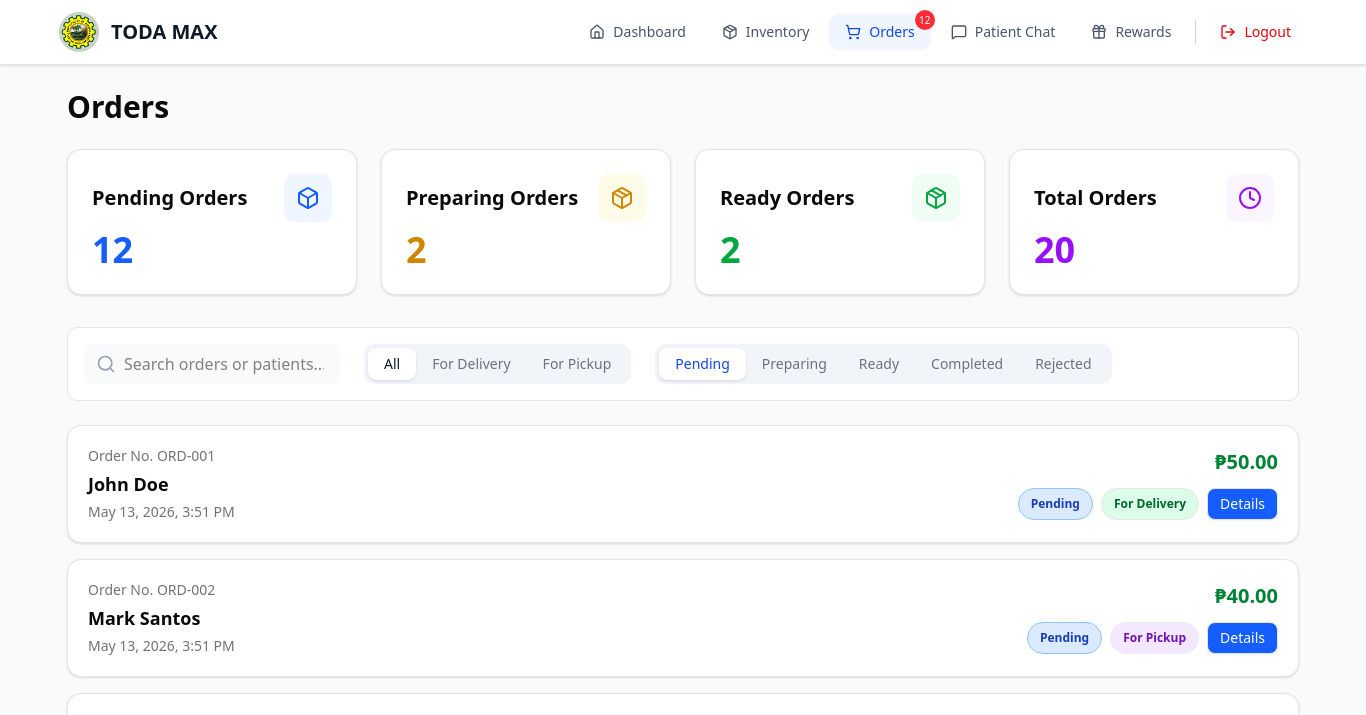
Test case: Ordering Page › should filter orders by status tabs and show correct orders
Click the button "Preparing": (795, 364) [746,348,843,380]
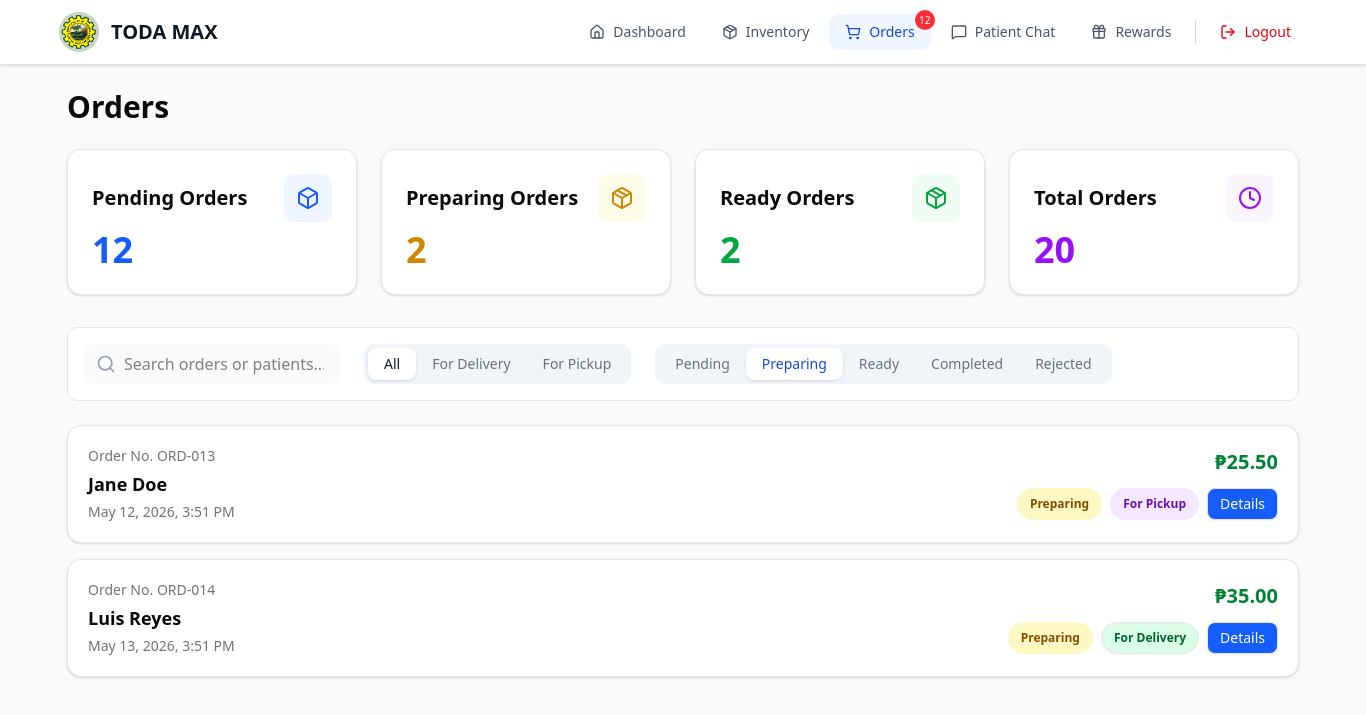
Check: the text "Jane Doe" is shown, box [88,472,167,496]
Click the button "Ready": (879, 364) [843,348,915,380]
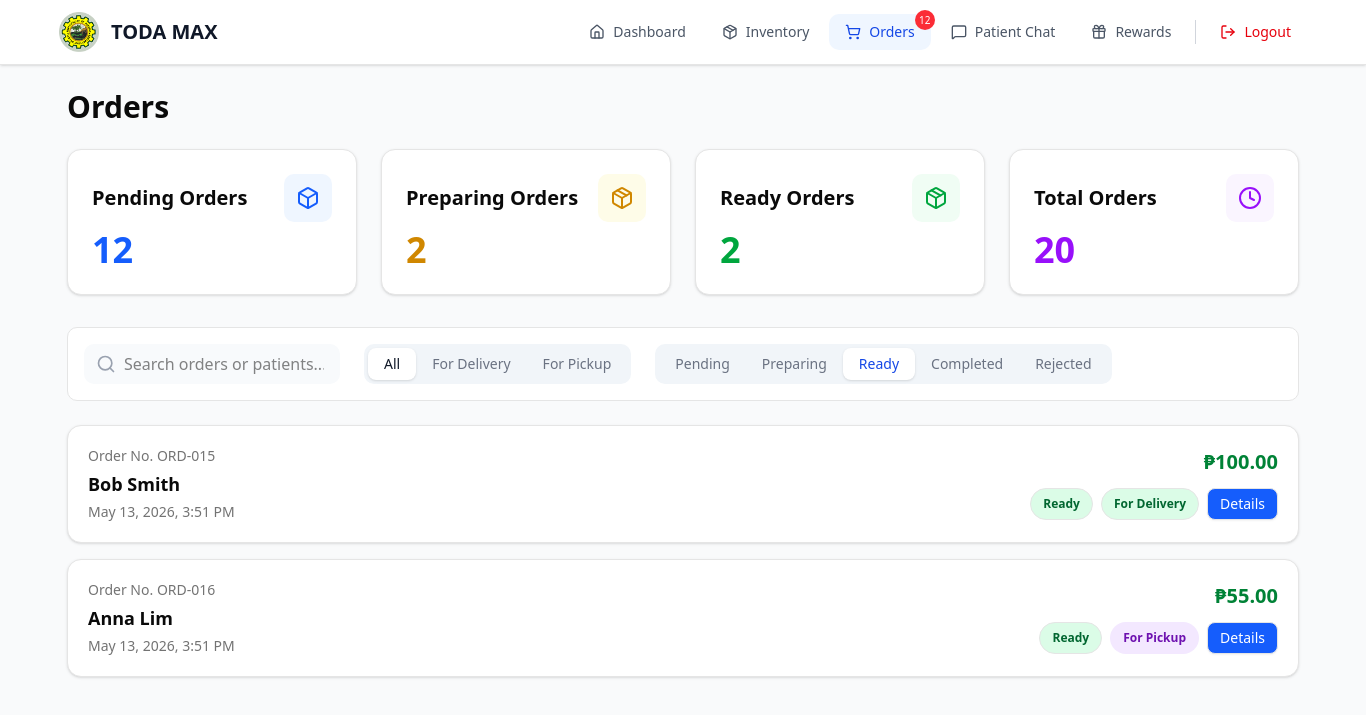
Check: the text "Bob Smith" is shown, box [88,472,180,496]
Click the button "Completed": (967, 364) [915,348,1019,380]
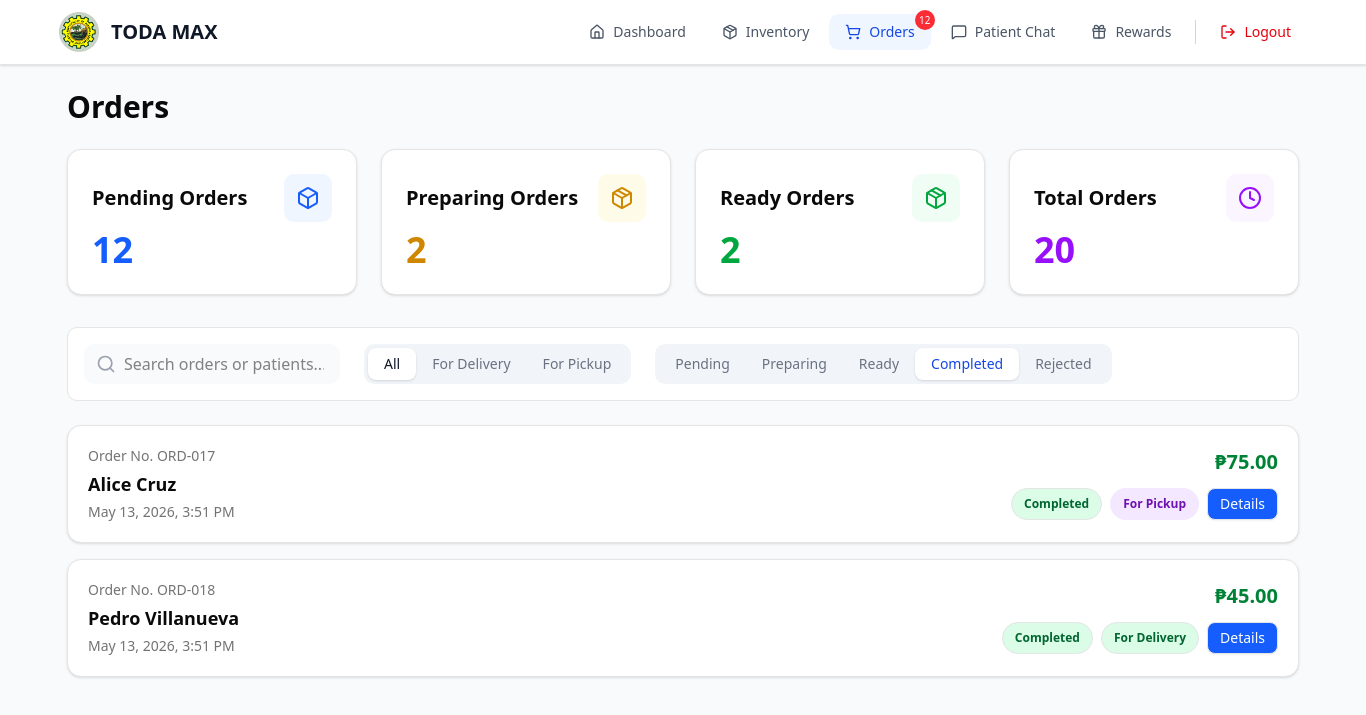
Check: the text "Alice Cruz" is shown, box [88,472,176,496]
Click the button "Rejected": (1063, 364) [1019,348,1107,380]
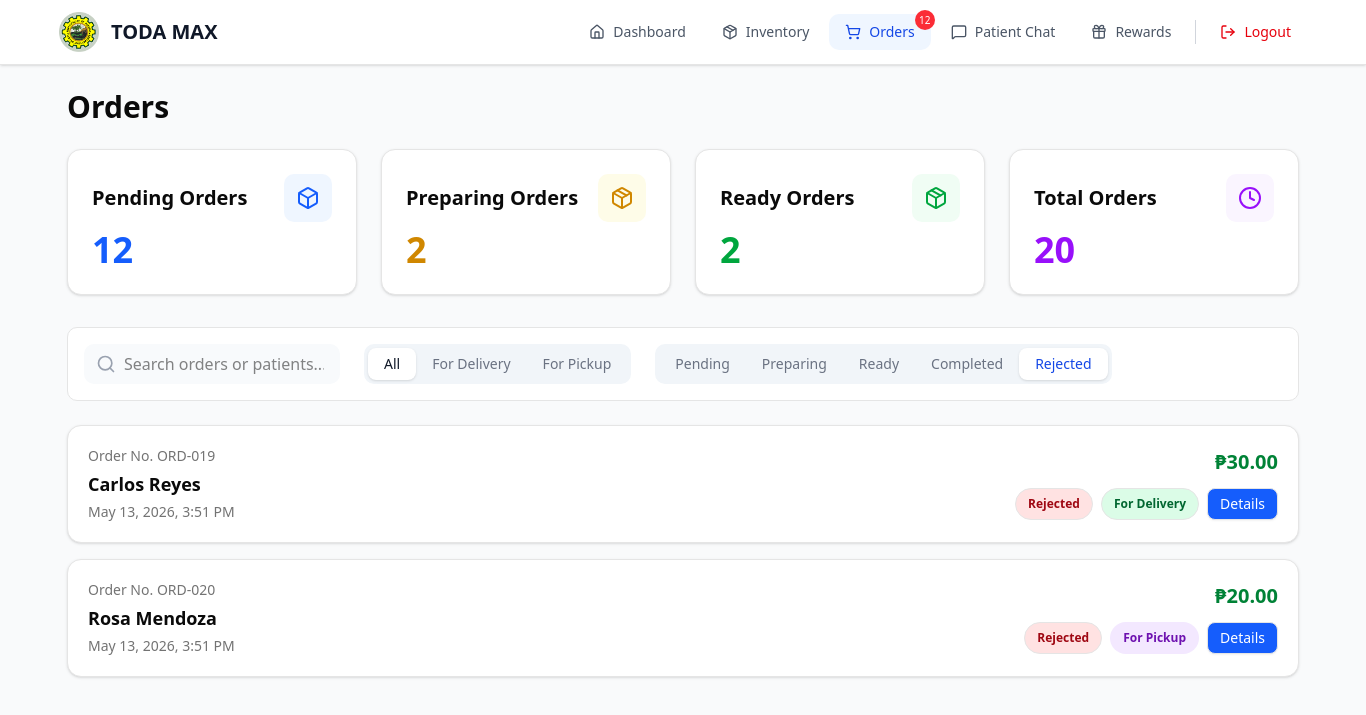
Check: the text "Carlos Reyes" is shown, box [88,472,201,496]
Click the button "Pending": (703, 364) [659,348,746,380]
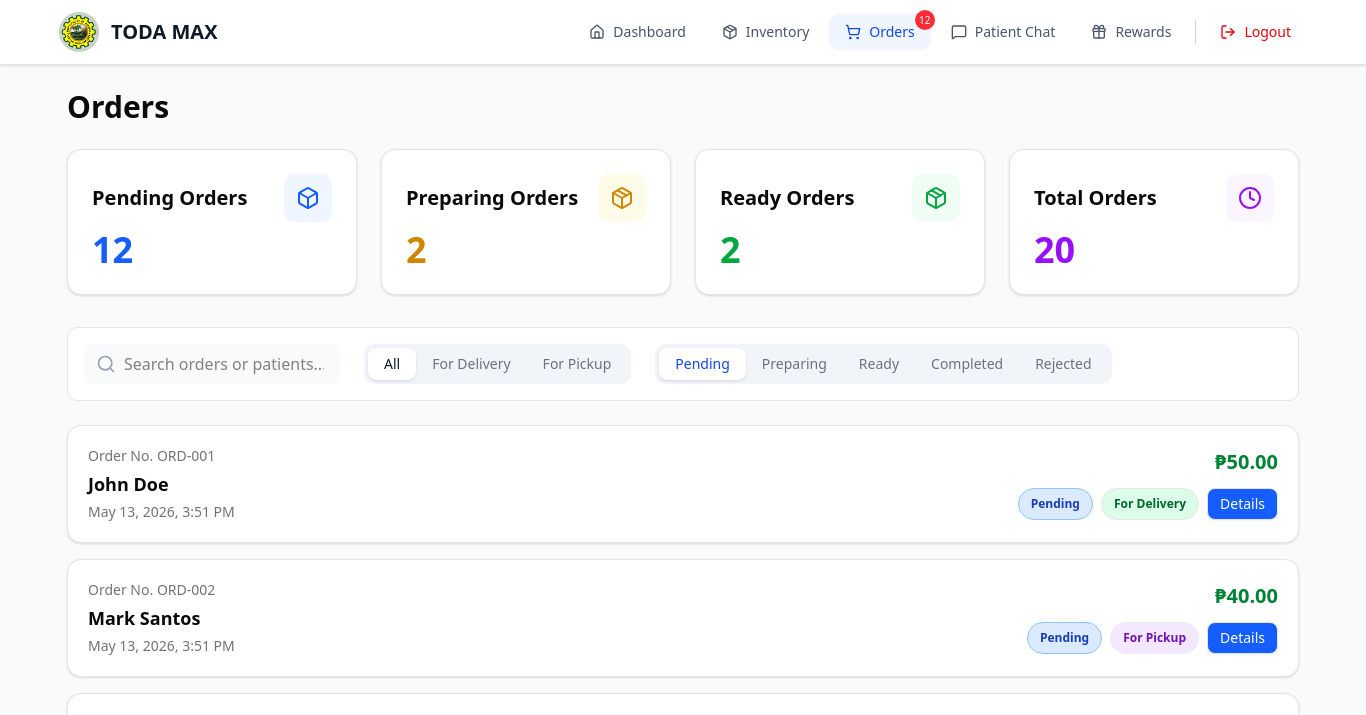
Check: the text "John Doe" is shown, box [88,472,168,496]
